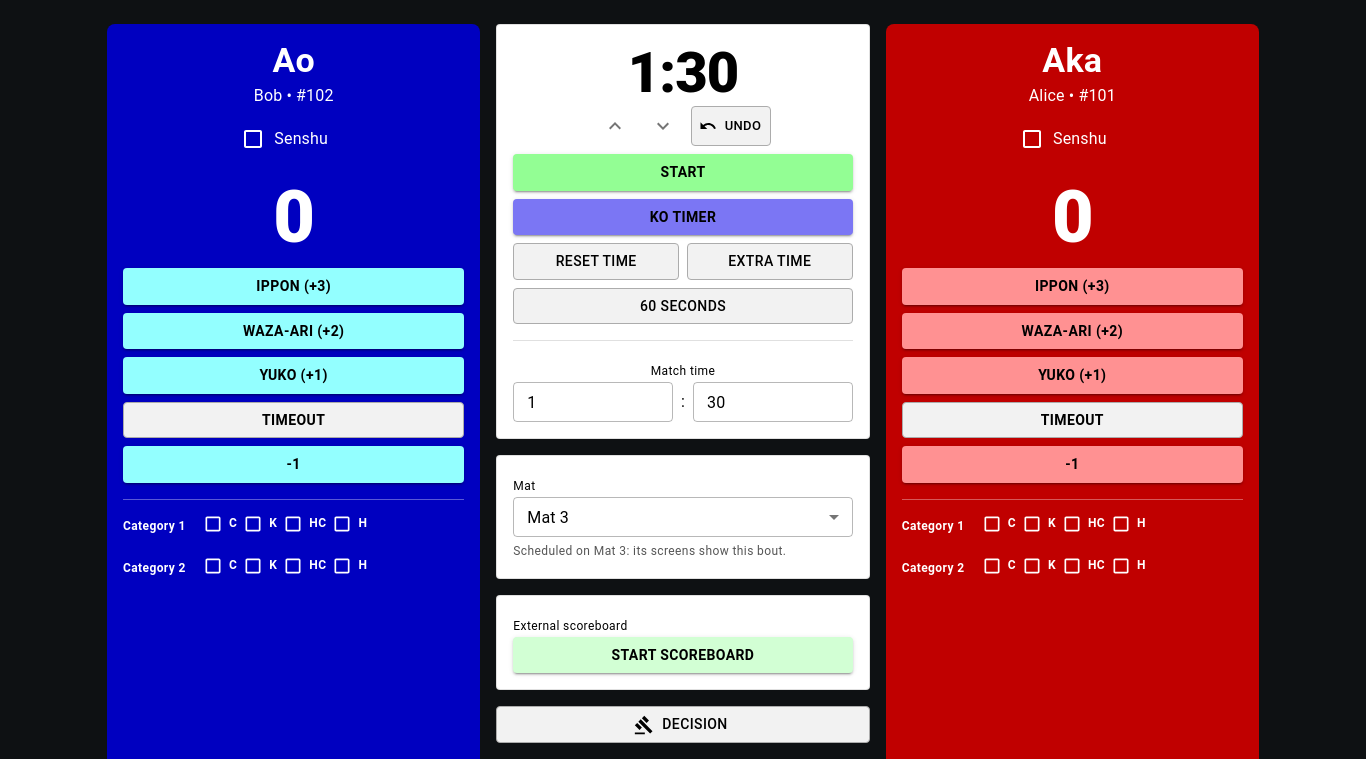
Test: the mat this console scores › shows the scheduled mat and offers only the mats the tournament has
The width and height of the screenshot is (1366, 759).
Expected: the text "Scheduled on Mat 3: its screens show this bout." is shown, [513,544,786,558]
Click the dropdown labelled "Mat".
click(548, 517)  # box [527,508,569,527]
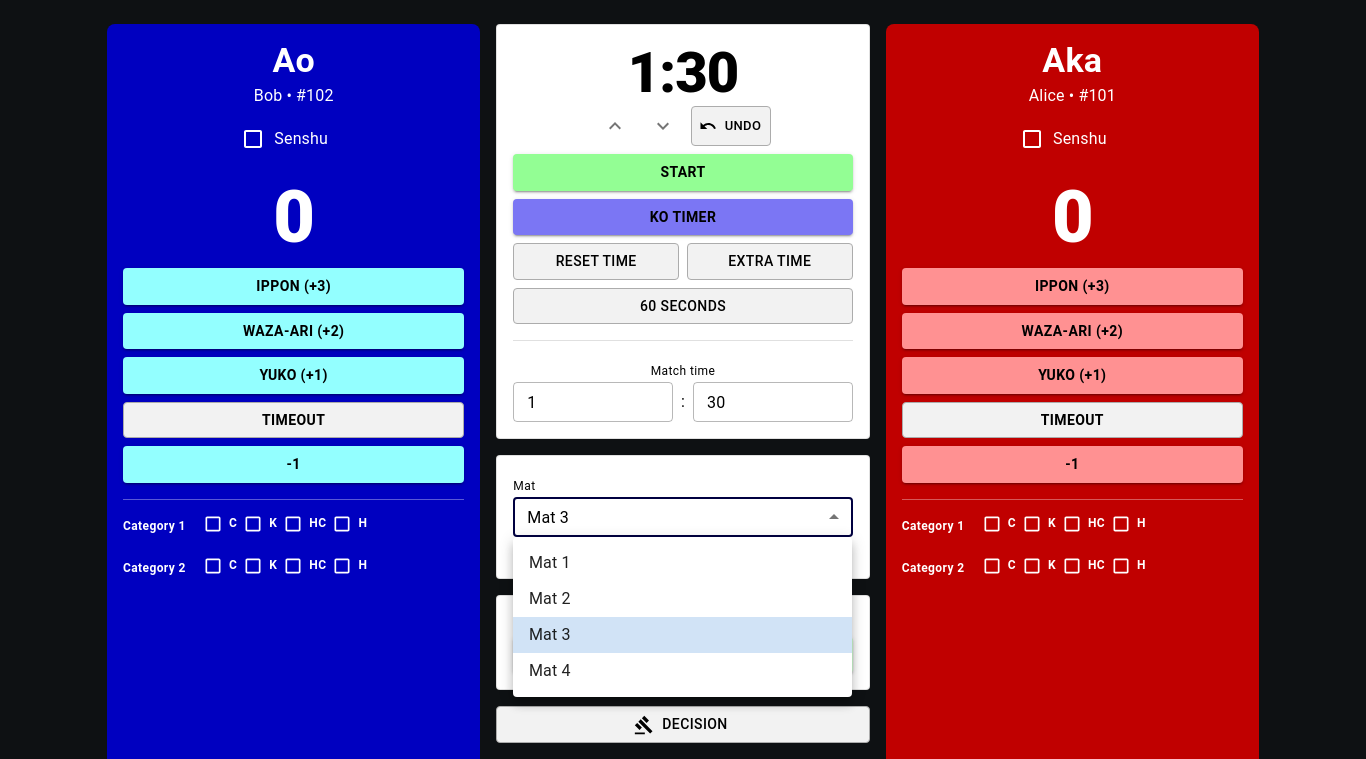
Now the options read "Mat 1", "Mat 2", "Mat 3", "Mat 4", in this order, box [529,553,571,572]; [529,589,571,608]; [513,617,852,653]; [529,661,571,680]
